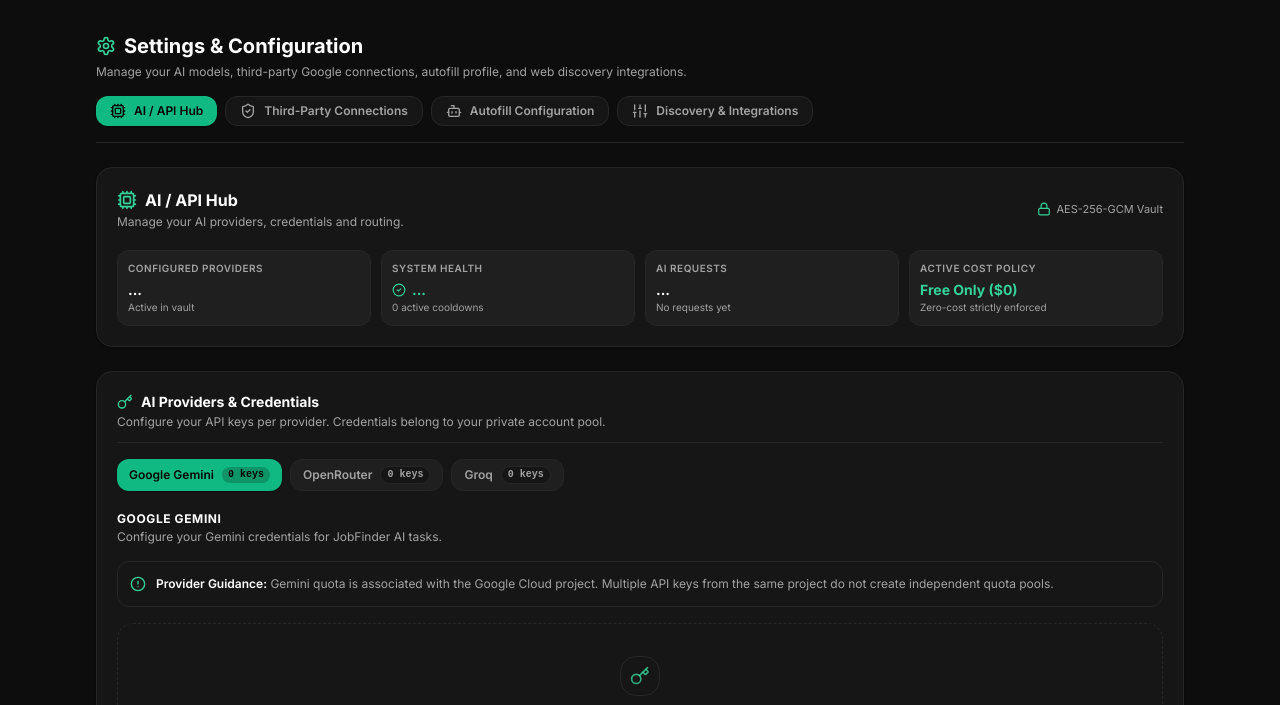
Test: SettingsPage Autofill Configuration & Integrations › switches to Autofill Configuration tab and loads fields
Click the button "Autofill Configuration" at (520, 111), box 431,96 -> 609,126
(page scrolled)
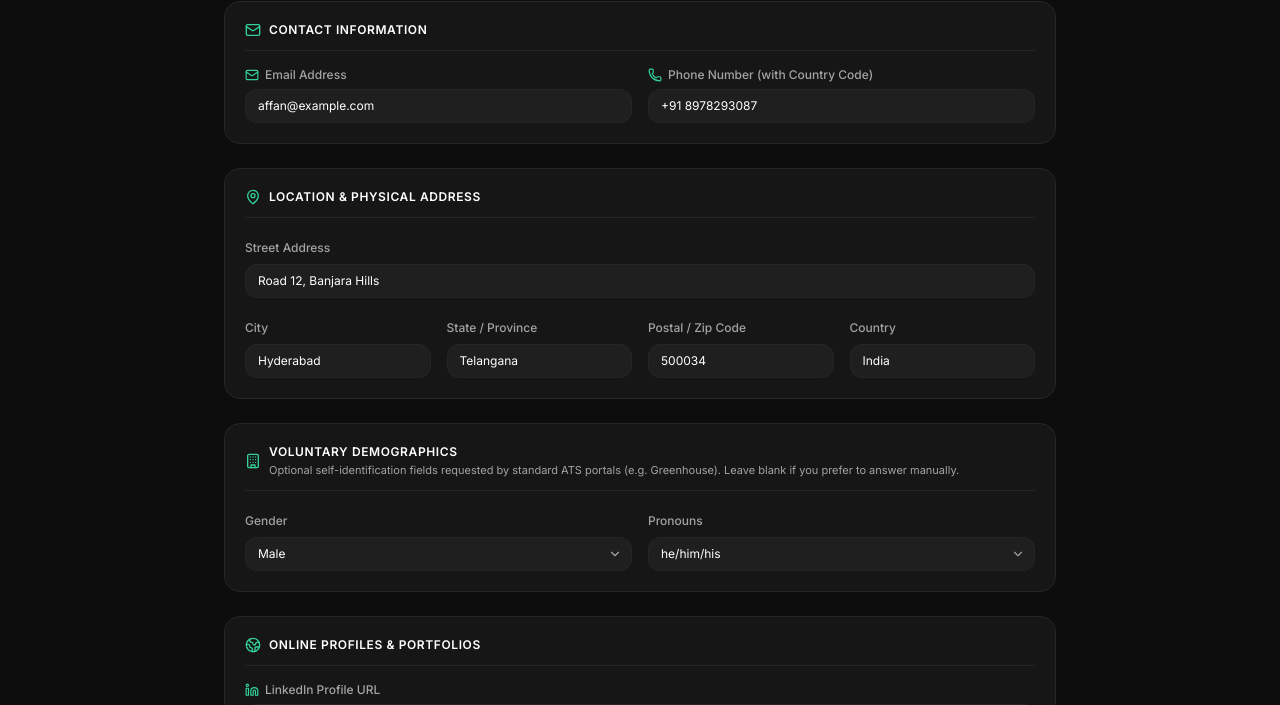
Expected: the field showing "affan@example.com" below "Email Address" is shown, 245,88 -> 632,122
Expected: the field showing "Road 12, Banjara Hills" below "Street Address" is shown, 245,264 -> 1035,298
Expected: the field showing "Hyderabad" below "City" is shown, 245,344 -> 430,378
